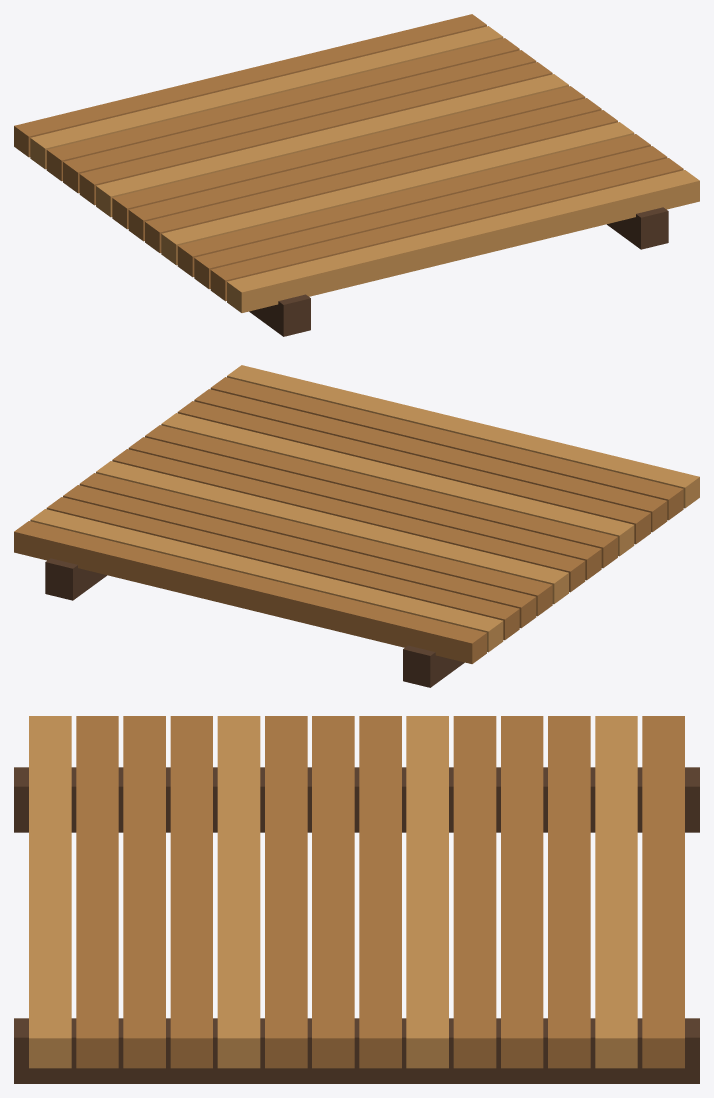
The model's file is main_dock_kit__platform.glb.
3 views of the same model, one above another, from view 1: azimuth 30°, elevation 25°; view 2: azimuth 150°, elevation 25°; view 3: azimuth 270°, elevation 25° (orthographic). The views are drawn at different scales.
Visible parts, largest first — view 1: platform__wood2.002, platform__wood3.002, platform__wood_dark.002; view 2: platform__wood2.002, platform__wood3.002, platform__wood_dark.002; view 3: platform__wood2.002, platform__wood3.002, platform__wood_dark.002.
Part boxes in pixels (x1=…): platform__wood2.002: x1=14, y1=14, x2=683, y2=301; platform__wood3.002: x1=30, y1=26, x2=699, y2=312; platform__wood_dark.002: x1=249, y1=207, x2=668, y2=336; platform__wood2.002: x1=14, y1=377, x2=683, y2=663; platform__wood3.002: x1=30, y1=365, x2=699, y2=652; platform__wood_dark.002: x1=45, y1=558, x2=464, y2=687; platform__wood2.002: x1=76, y1=716, x2=684, y2=1068; platform__wood3.002: x1=29, y1=716, x2=637, y2=1068; platform__wood_dark.002: x1=14, y1=767, x2=699, y2=1083.
Size of the model in its own units: 3 by 0.31 by 2.7.
